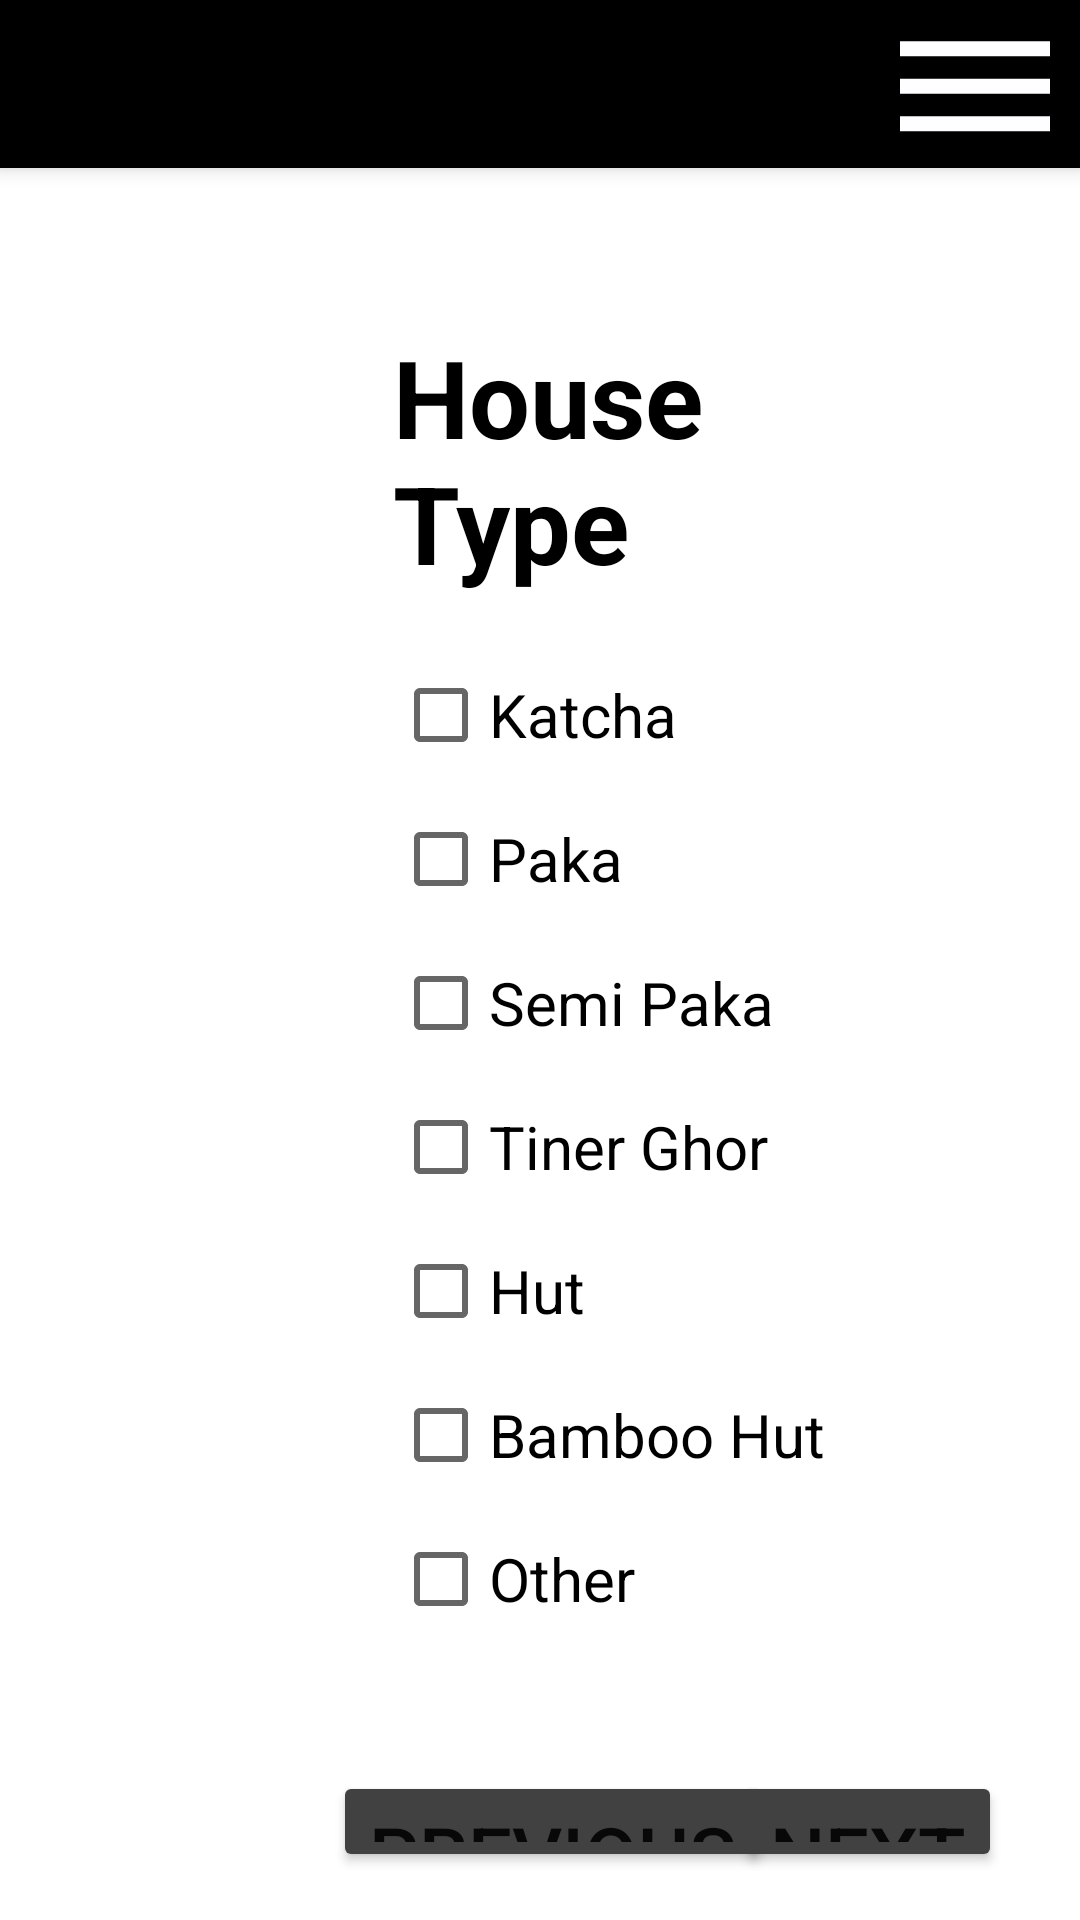

Named icons in this screenshot (1080 × 1920) and their bounding boxes, {"left": x1, "top": y1, "right": x2, "bottom": y2}:
dehaze: {"left": 900, "top": 41, "right": 1050, "bottom": 132}
